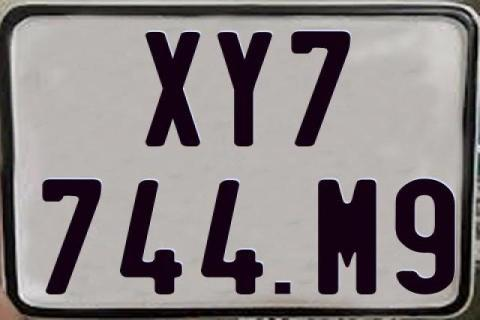0: (119, 178, 186, 294), (394, 176, 459, 292), (199, 178, 263, 294), (41, 179, 104, 296), (291, 31, 353, 149)
M: (318, 179, 381, 297)
X: (143, 32, 203, 148)
Y: (214, 29, 274, 149)
